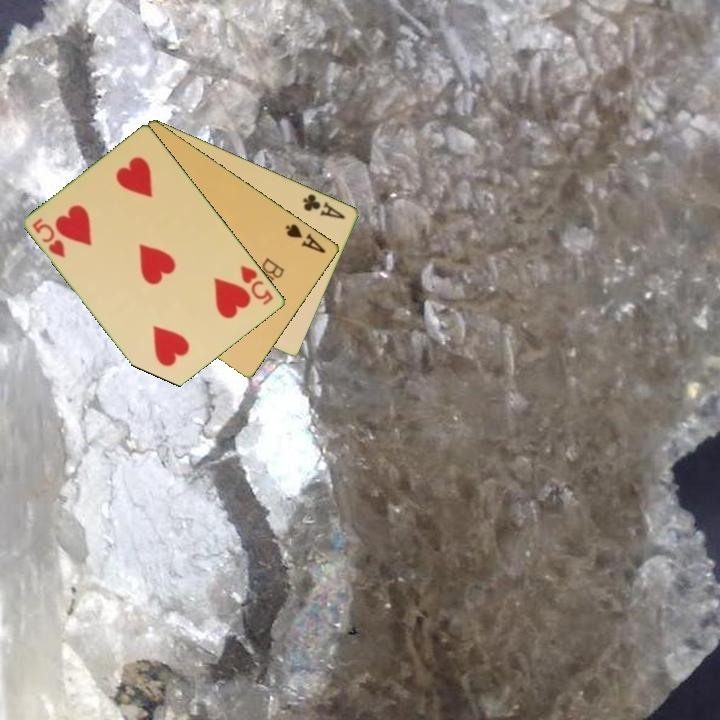5h: (237, 262, 277, 308), (29, 215, 69, 261)
Ac: (300, 190, 348, 222)
As: (282, 220, 329, 256)
